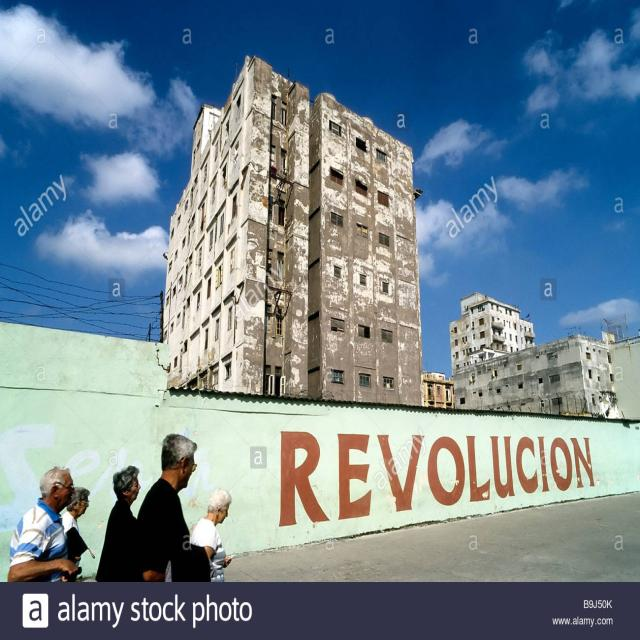body: (135, 432, 215, 581), (6, 465, 84, 585), (95, 464, 155, 582), (190, 487, 238, 582), (58, 485, 91, 583)
